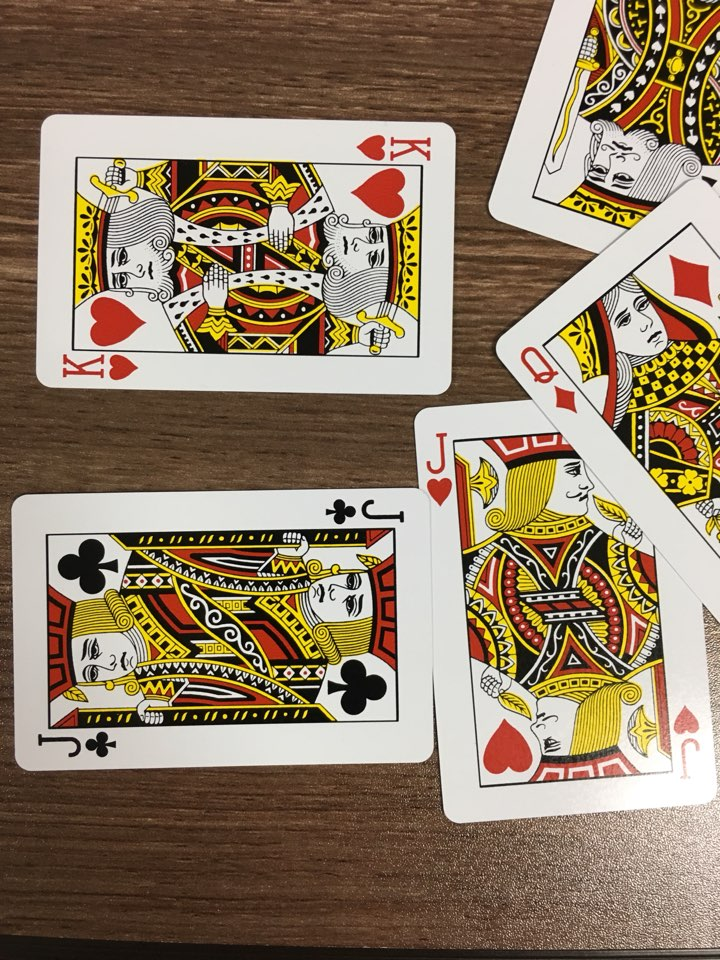jack: (403, 388, 720, 844), (5, 476, 449, 782)
king: (17, 99, 478, 405), (483, 1, 718, 291)
queen: (483, 165, 720, 650)
